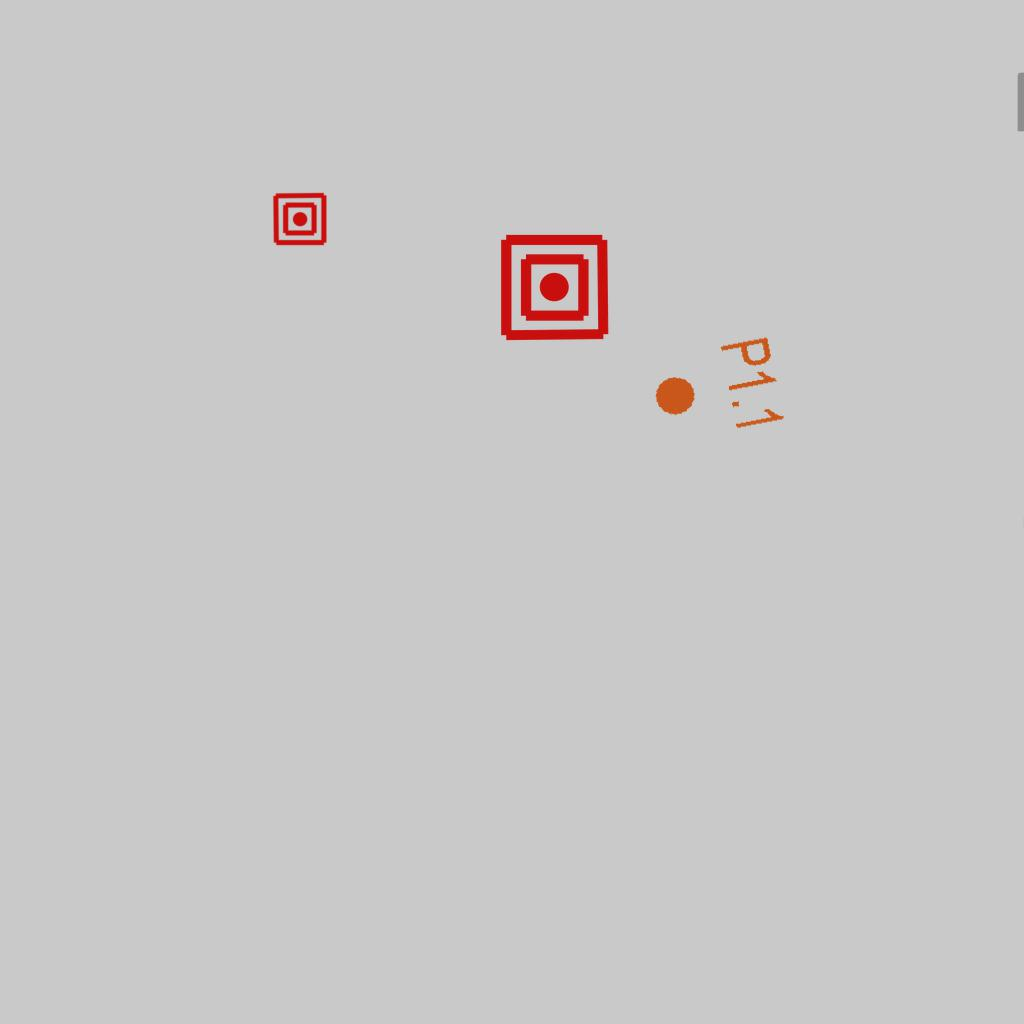Downlight_LED_Einbauleuchten_Flur: (644, 333, 789, 449)
NAM-Nichtautomatischer_Melder: (498, 231, 611, 344), (272, 191, 328, 247)
